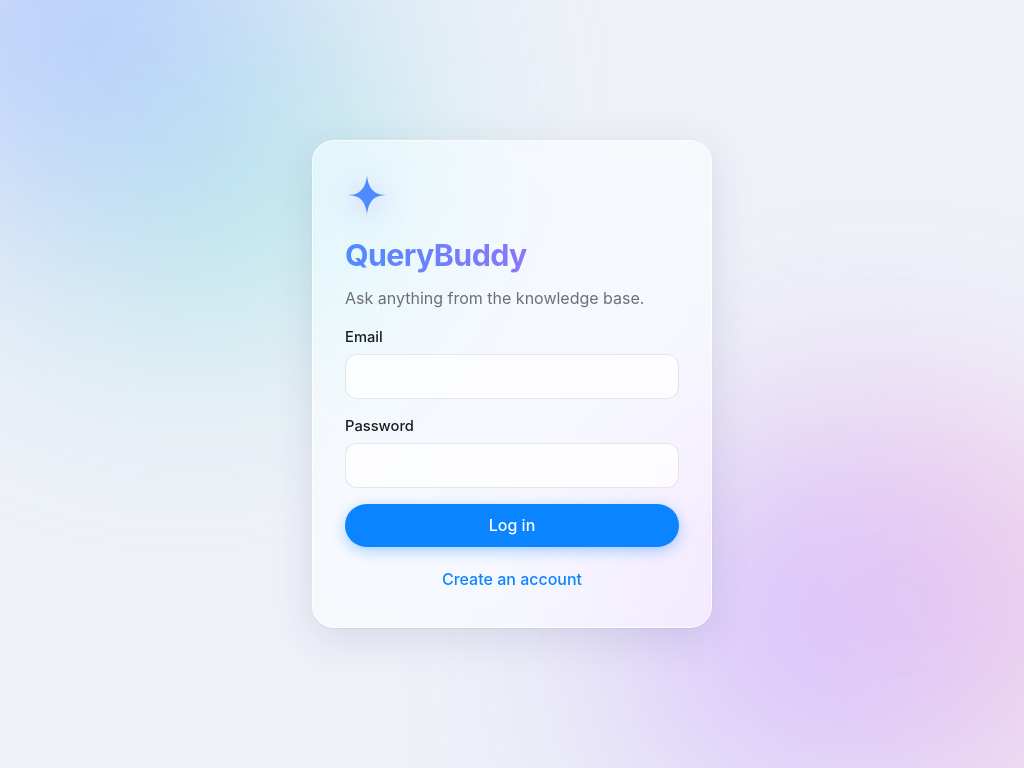
Test case: LoginPage › blocks submit for password under 8 chars
Step 1. Type "amy@example.com" into the field labelled "Email" → (512, 377), box [345, 354, 679, 399]
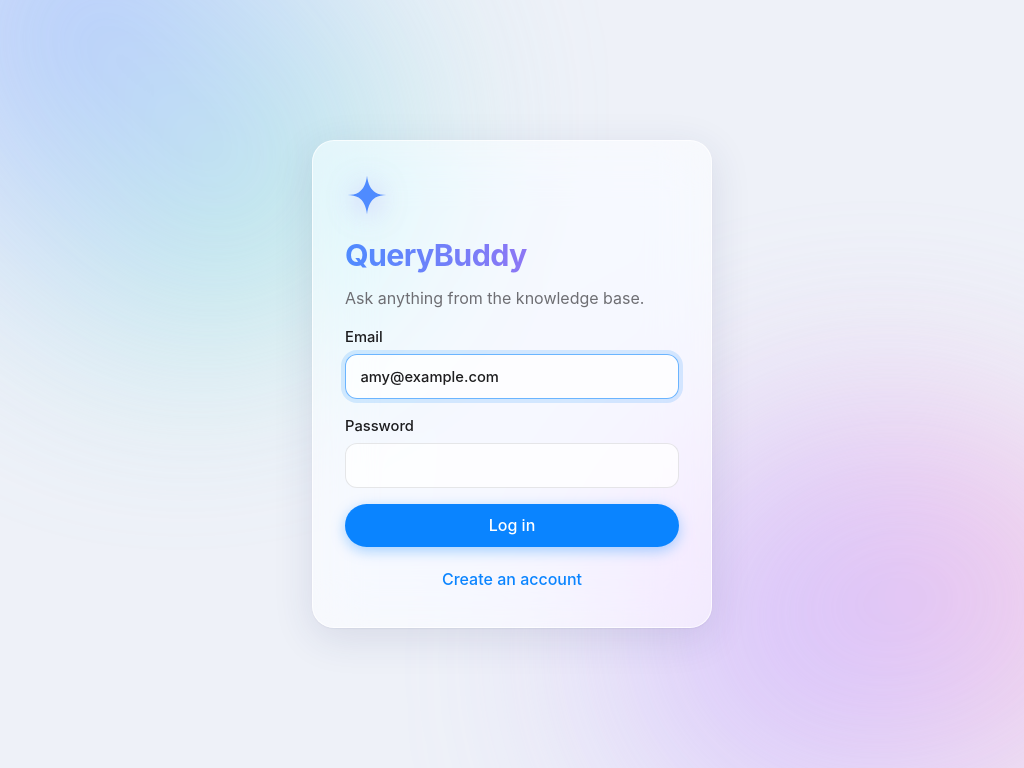
Step 2. Type "short" into the password field labelled "Password" → (512, 465), box [345, 443, 679, 488]
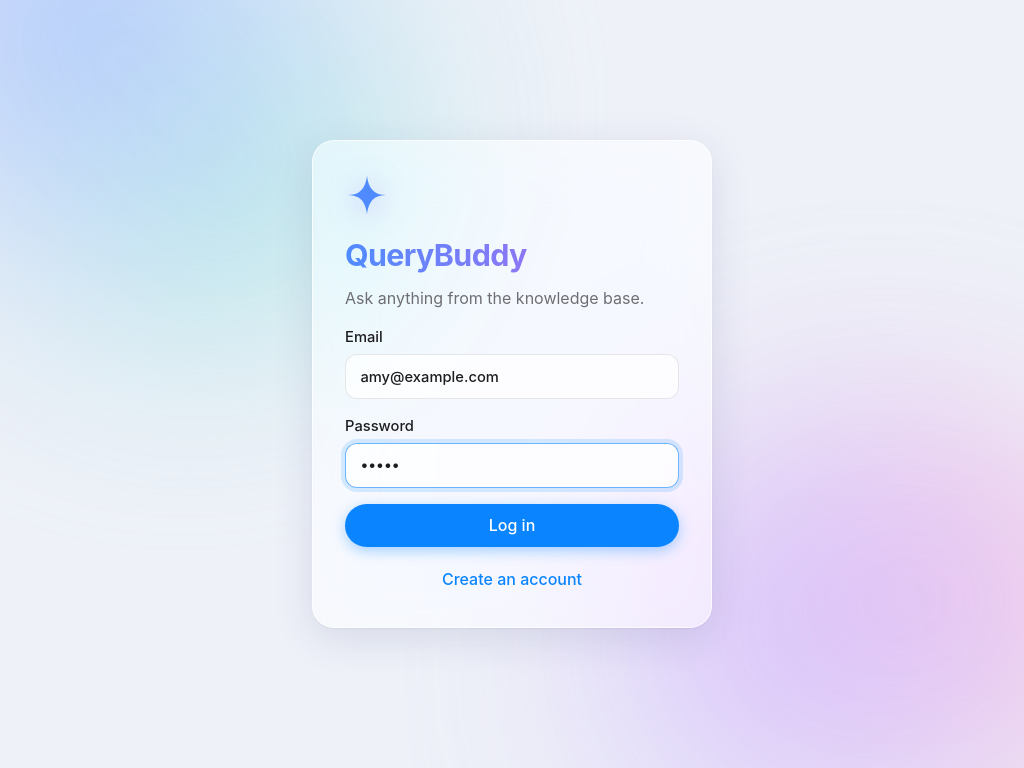
Step 3. Click the button "Log in" → (512, 525), box [345, 504, 679, 547]
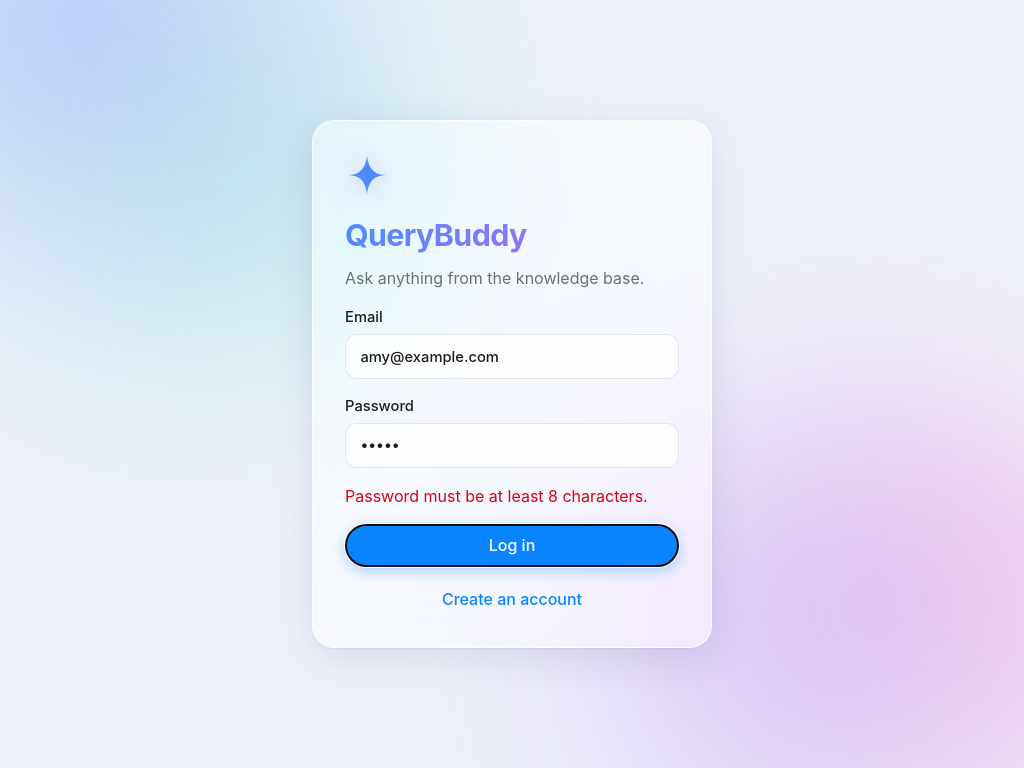
Now the message shows "at least 8 characters", box [345, 486, 648, 506]
